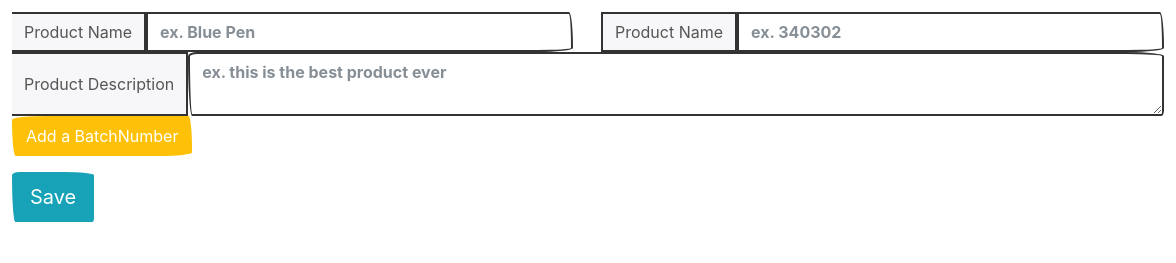
Scenario: Prduct Name most be more than 3 characters
Step 1. Type "aa" into the field with test id "productName" → (360, 32), box [146,12,573,52]
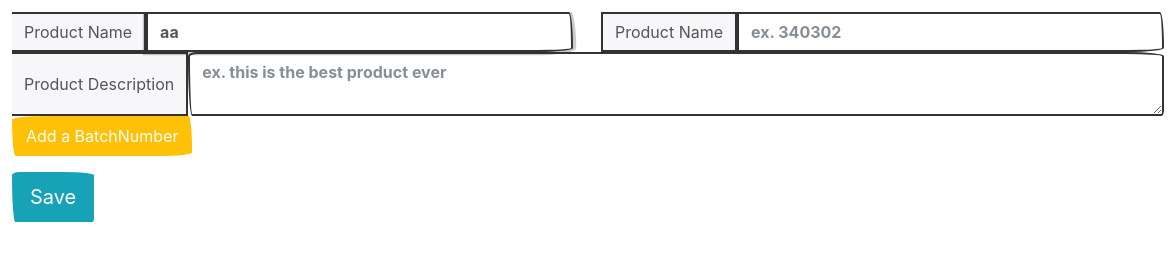
Step 2. Submit the form with test id "product-input-form"
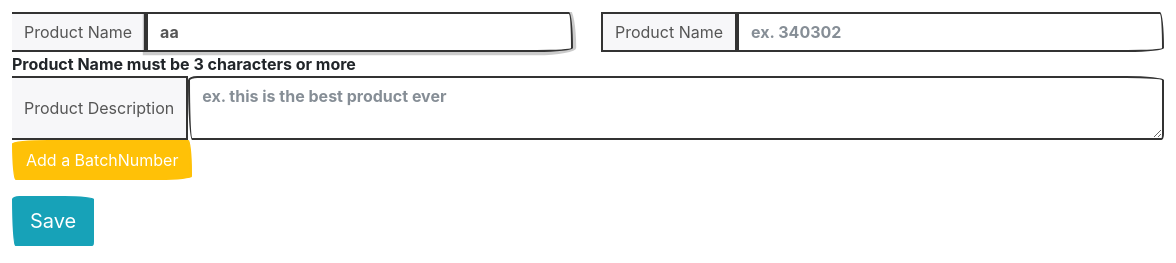
Expected: the text "Product Name must be 3 characters or more" is shown, [12,54,356,74]
